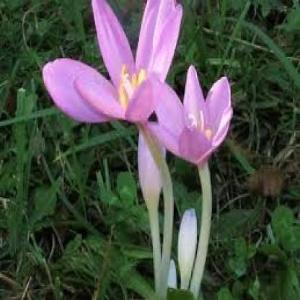Saffron: (42, 0, 175, 126), (146, 68, 234, 181)
